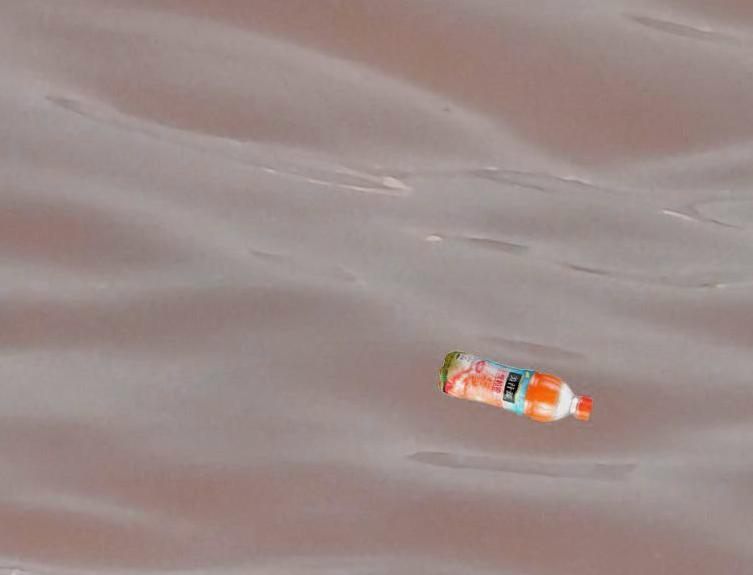Plastic: (439, 348, 597, 422)
